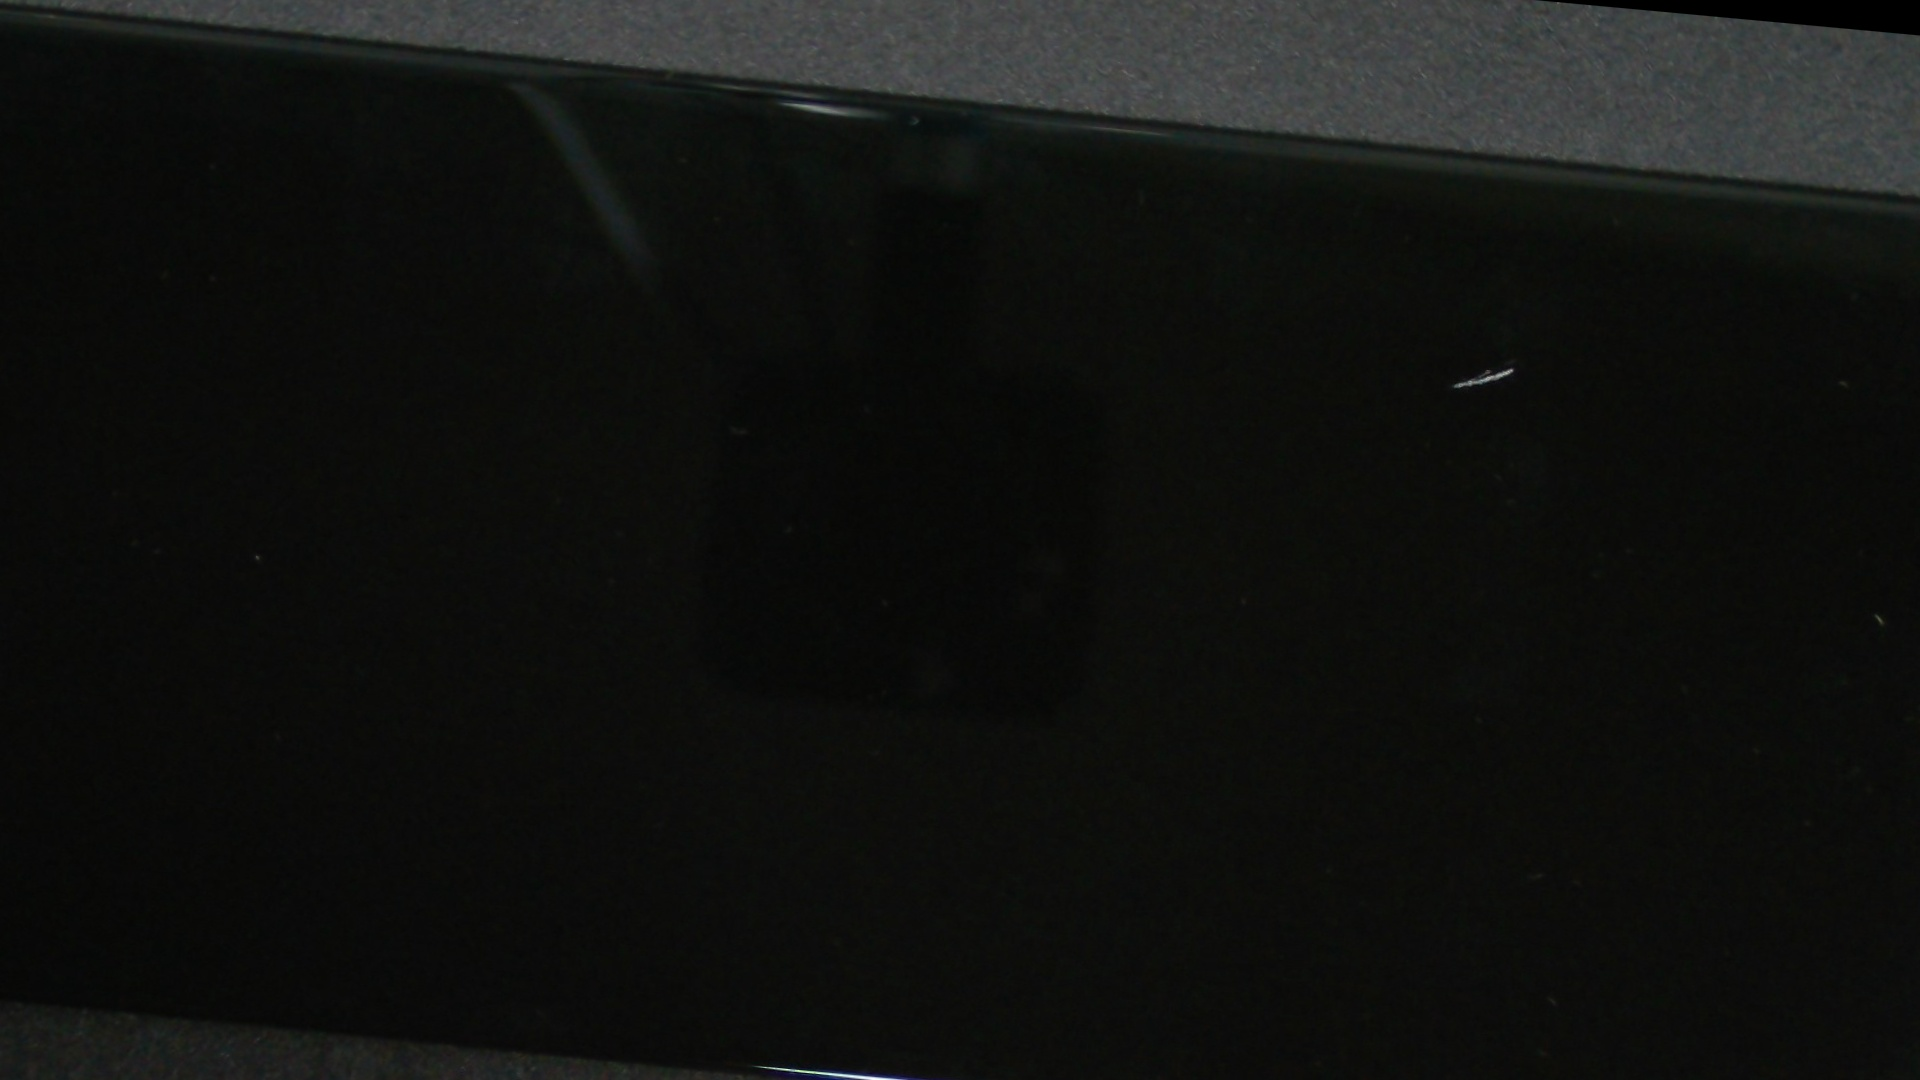oil: (646, 105, 1920, 601)
